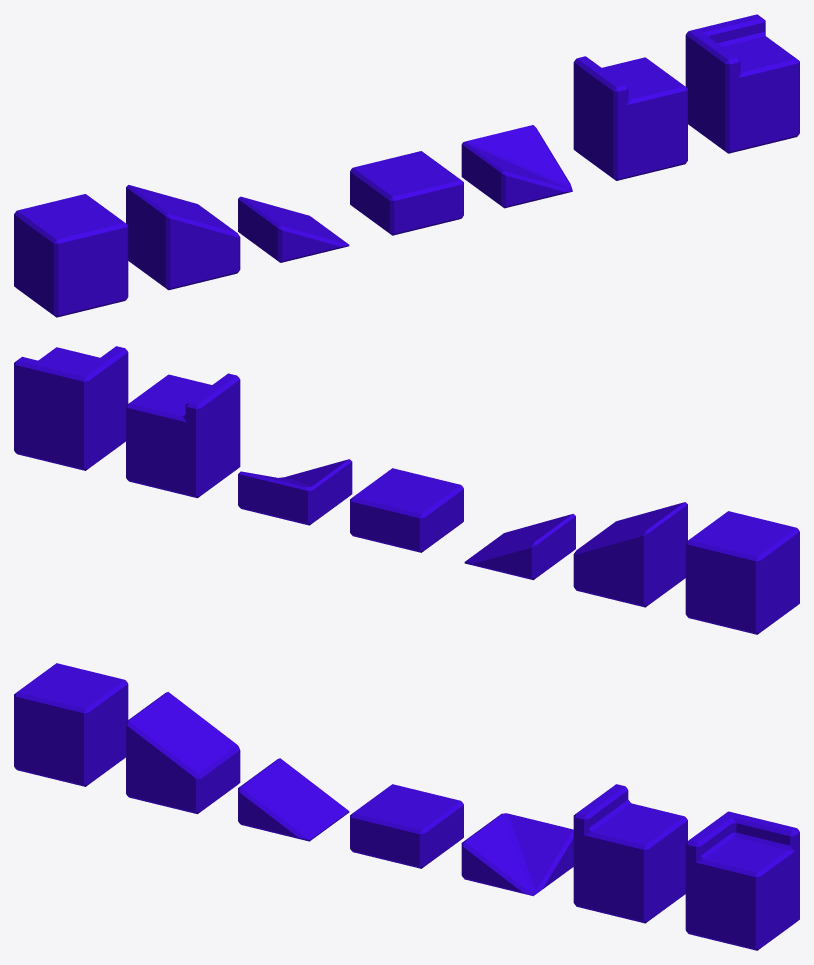
The model's file is world-blocks-v1.glb.
3 views of the same model, one above another, from view 1: azimuth 30°, elevation 25°; view 2: azimuth 150°, elevation 25°; view 3: azimuth 330°, elevation 25° (orthographic).
Visible parts, largest first — view 1: BlockWallCorner, BlockWall, Block, RampTop, BlockShort, RampLowerCorner, RampBottom; view 2: BlockWallCorner, BlockWall, Block, RampTop, BlockShort, RampLowerCorner, RampBottom; view 3: BlockWallCorner, BlockWall, Block, RampTop, BlockShort, RampLowerCorner, RampBottom.
Part boxes in pixels (x1,y1,x2,y2): BlockWallCorner: (685,14,799,153); BlockWall: (573,56,687,180); Block: (14,194,128,317); RampTop: (126,185,240,290); BlockShort: (350,151,463,235); RampLowerCorner: (461,125,572,208); RampBottom: (238,196,349,262); BlockWallCorner: (14,346,128,470); BlockWall: (126,373,240,498); Block: (685,511,799,634); RampTop: (573,502,687,607); BlockShort: (350,468,463,552); RampLowerCorner: (238,459,352,525); RampBottom: (464,513,575,580); BlockWallCorner: (685,811,799,950); BlockWall: (573,784,687,923); Block: (14,663,128,786); RampTop: (126,692,240,814); BlockShort: (350,784,463,868); RampLowerCorner: (461,813,573,896); RampBottom: (238,758,349,841).
Size of what is drawn, in the model's own units: 20 by 2.4 by 2.
